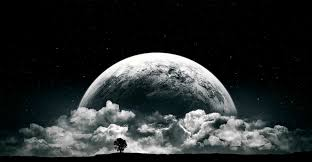moon: (77, 50, 239, 126)
